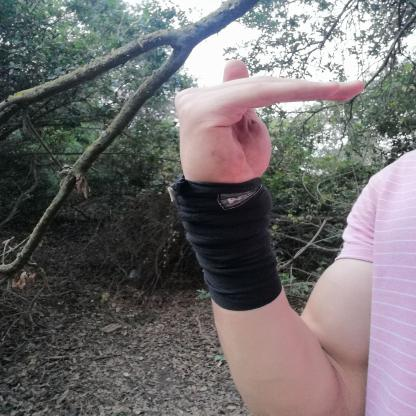KHAA: (158, 52, 375, 196)
